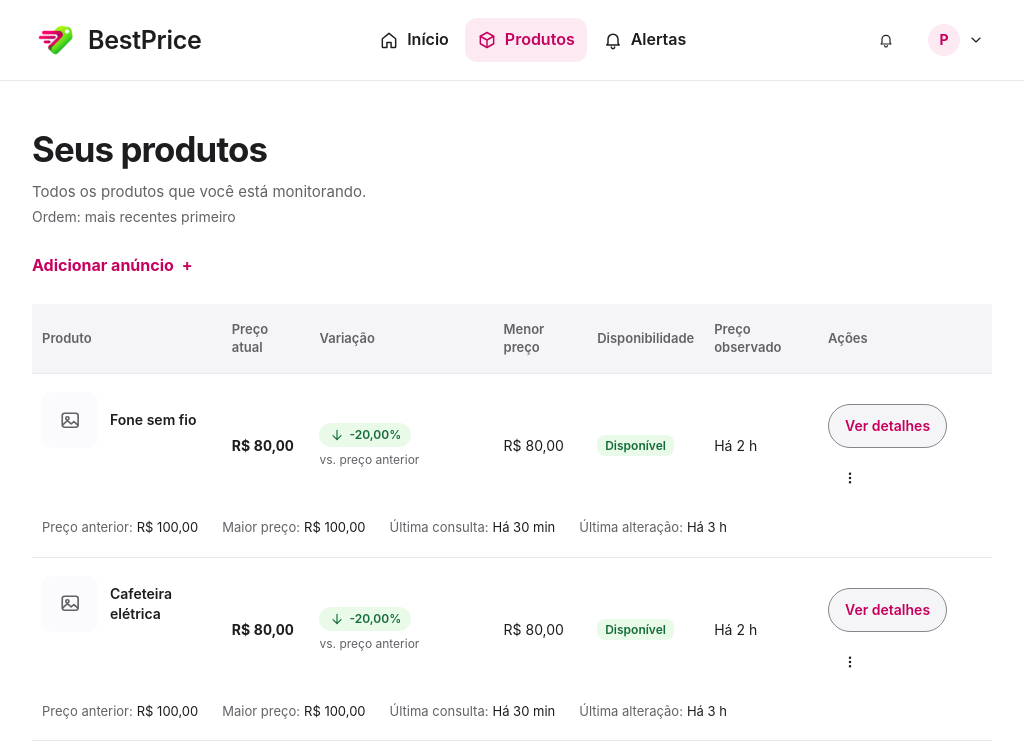
Test: Parar de monitorar pela linha › cancela por Cancelar sem requisição e devolve o foco ao menu da linha
Expected: the navigation bar named "Principal" is shown, [367,18,698,62]
Click the 2nd button named "Ações de Fone sem fio" at (850, 478), box [828,456,872,500]
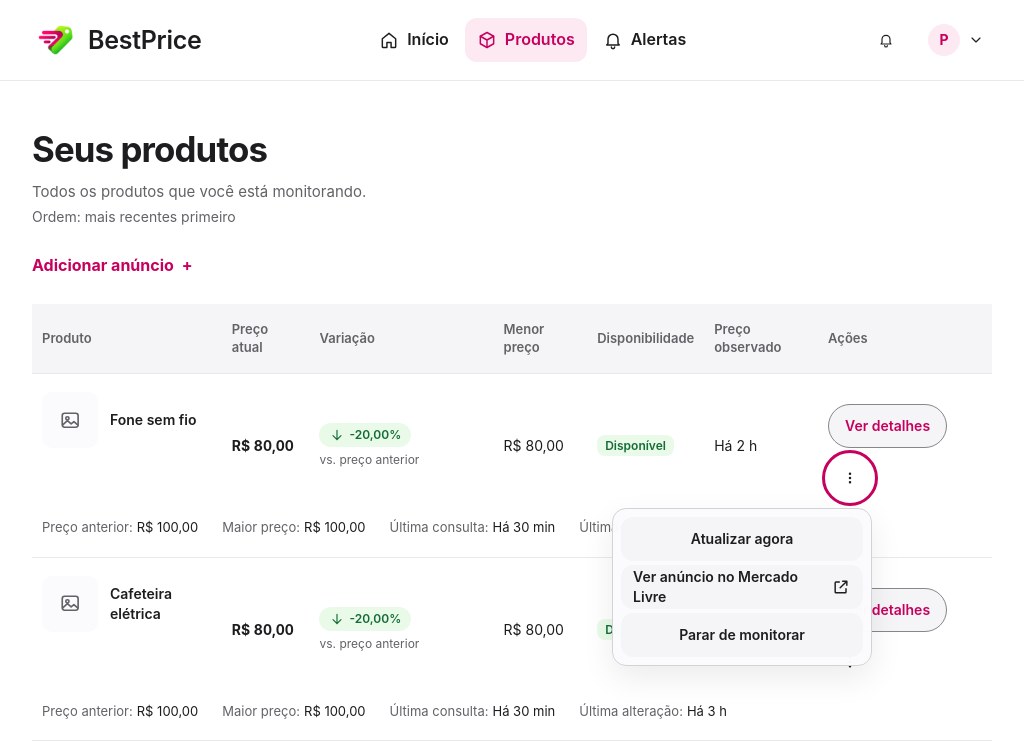
Click the button "Parar de monitorar" at (742, 635), box [621,613,863,657]
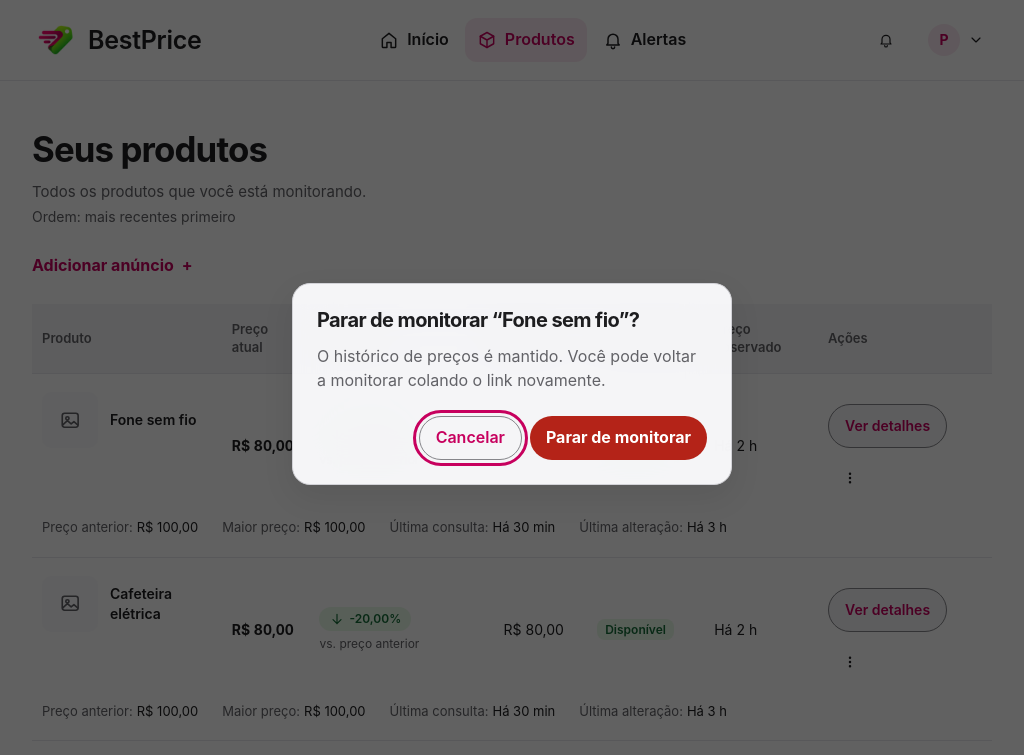
Expected: the dialog "Parar de monitorar “Fone sem fio”?" is shown, [292,283,732,485]
Click the button "Cancelar" at (470, 438), box [419,416,522,460]
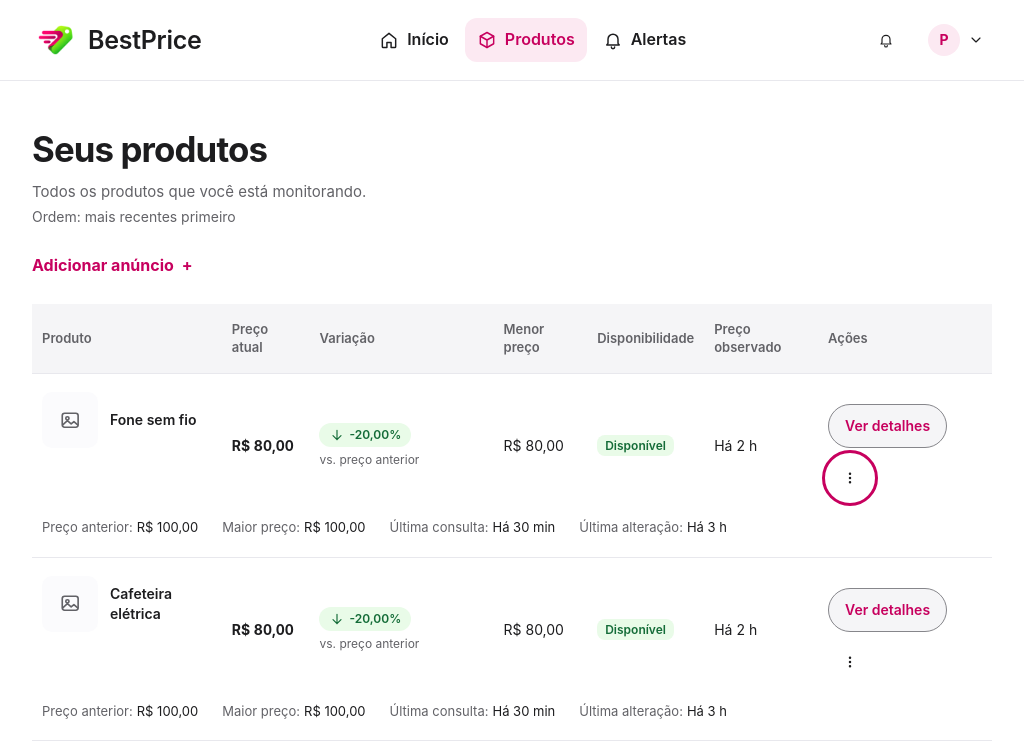
Expected: the dialog is gone
